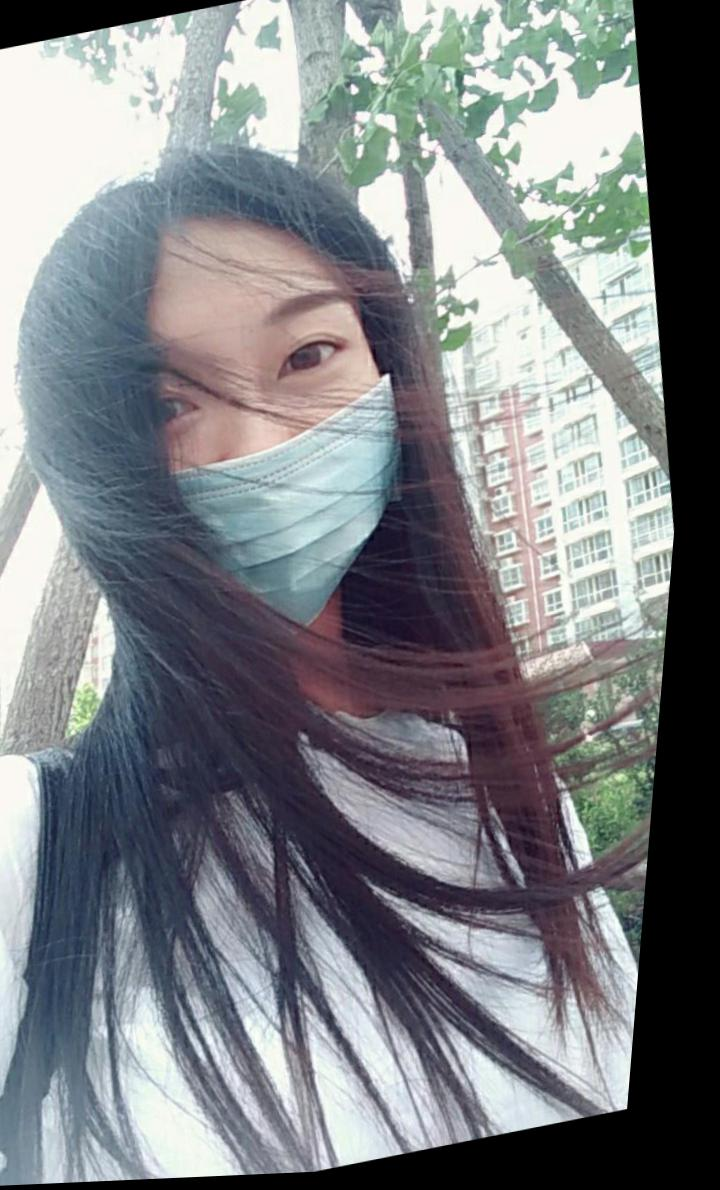WRONG: (68, 262, 455, 672)
